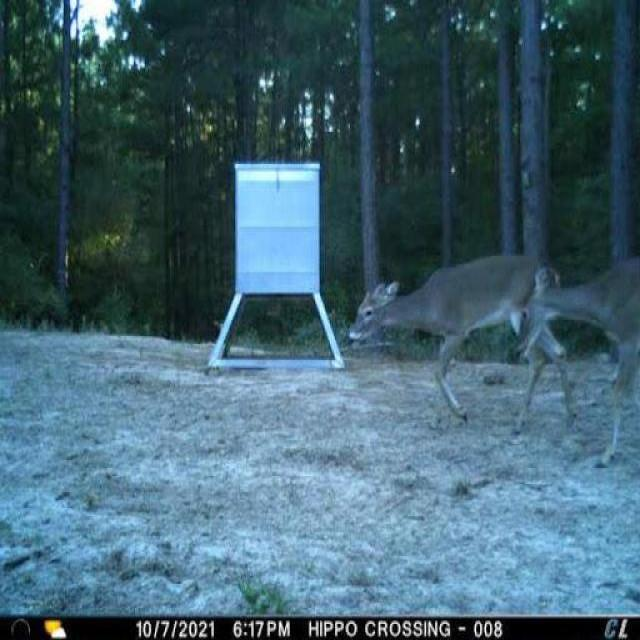deer: (345, 244, 576, 436), (506, 248, 640, 475)
